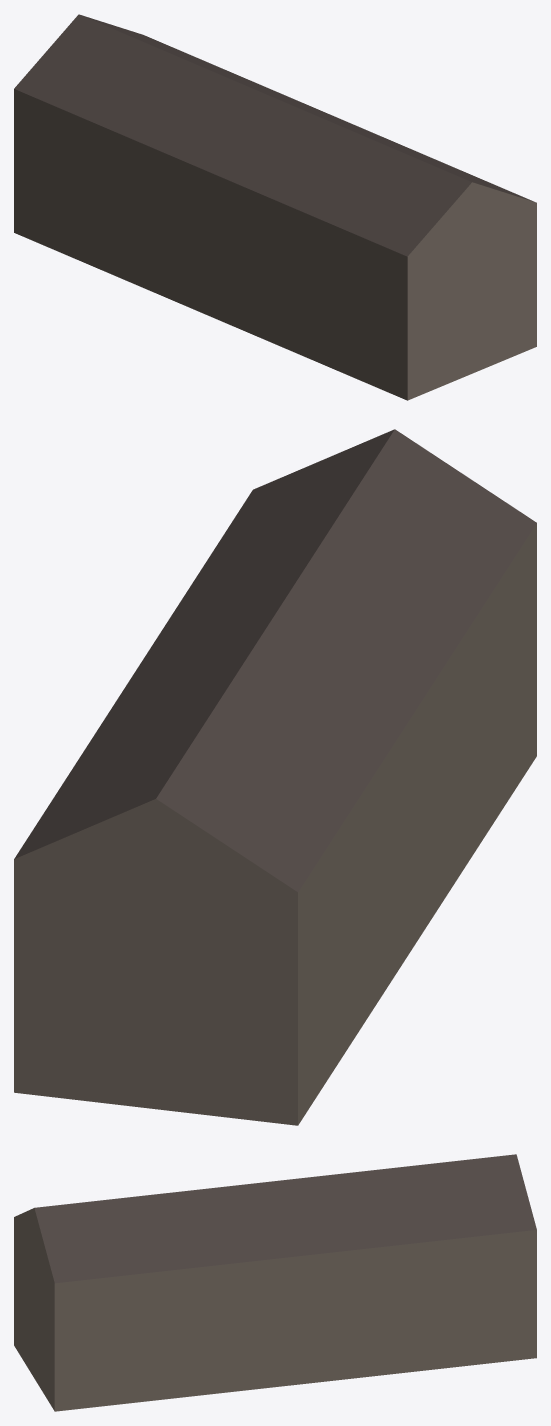
The picture shows the model from 3 angles, top to bottom: view 1: azimuth 30°, elevation 25°; view 2: azimuth 150°, elevation 25°; view 3: azimuth 270°, elevation 25°; orthographic projection. The views are drawn at different scales.
Visible parts, largest first — view 1: HP-w859488817; view 2: HP-w859488817; view 3: HP-w859488817.
Boxes of the visible parts, x1,y1,x2,y2 form: HP-w859488817: [14, 14, 536, 400]; HP-w859488817: [14, 429, 536, 1125]; HP-w859488817: [14, 1154, 536, 1411].
Bounding box in the file's own units: 18.02 × 11.97 × 33.24.
